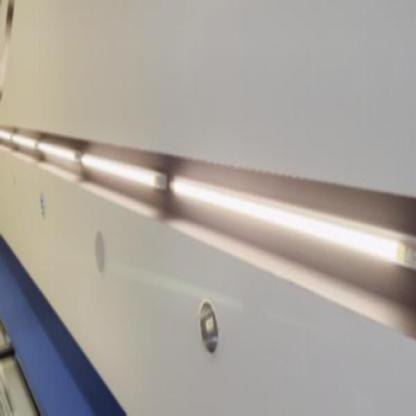light_on: (165, 149, 415, 297), (79, 151, 164, 196), (37, 140, 80, 170), (12, 128, 39, 152), (0, 122, 12, 148)
